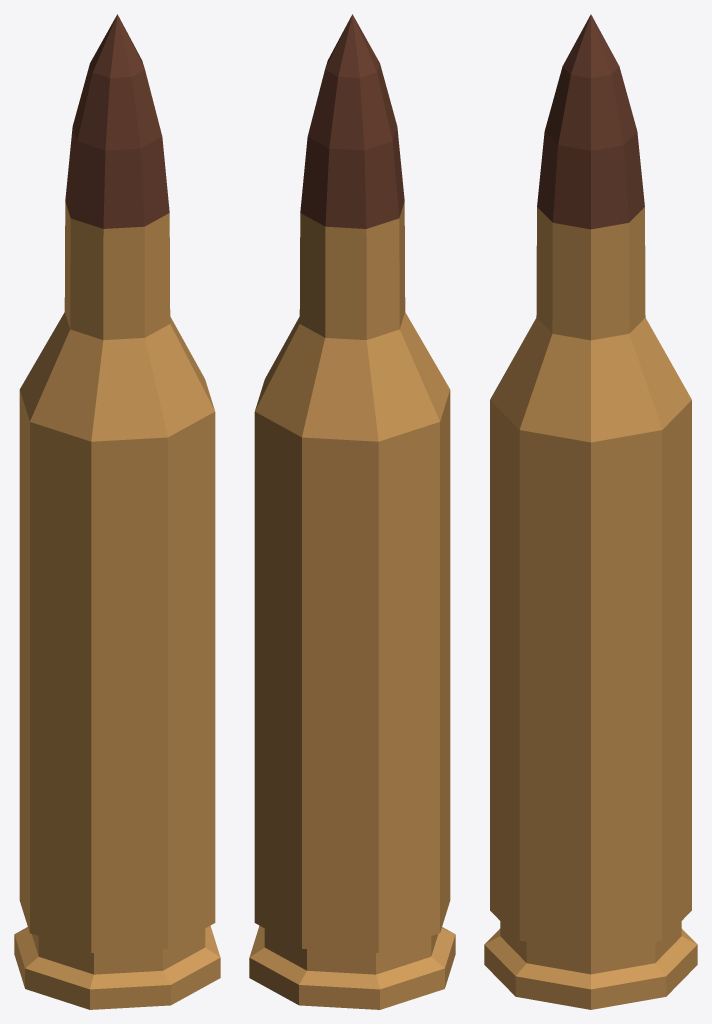
The model's file is SM_Icon_Ammo_03.fbx.
The picture shows the model from 3 angles, left to right: view 1: azimuth 30°, elevation 25°; view 2: azimuth 150°, elevation 25°; view 3: azimuth 270°, elevation 25°; orthographic projection.
Parts seen in each view (by area): view 1: SM_Icon_Ammo_03; view 2: SM_Icon_Ammo_03; view 3: SM_Icon_Ammo_03.
Boxes of the visible parts, bbox=[...] form: SM_Icon_Ammo_03: bbox=[14, 14, 220, 1009]; SM_Icon_Ammo_03: bbox=[249, 14, 455, 1009]; SM_Icon_Ammo_03: bbox=[484, 14, 697, 1009].
Bounding box in the file's own units: 17.73 × 87.32 × 17.73.
